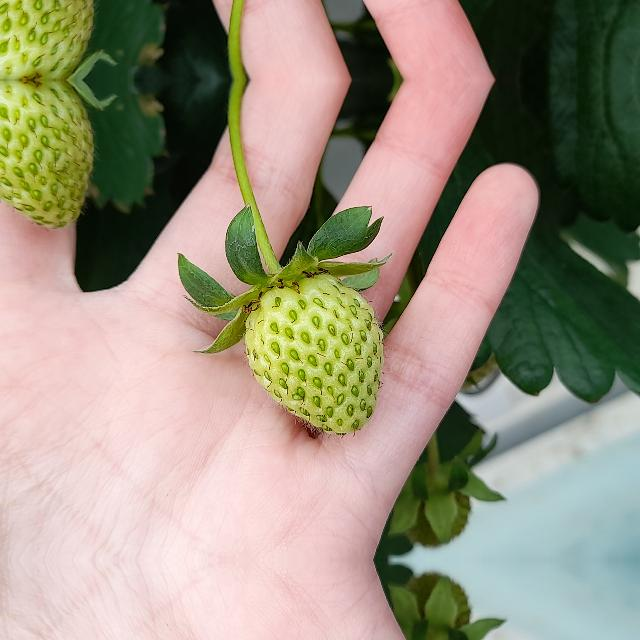Health_25: (244, 271, 384, 433), (0, 80, 92, 234), (0, 0, 92, 80)
